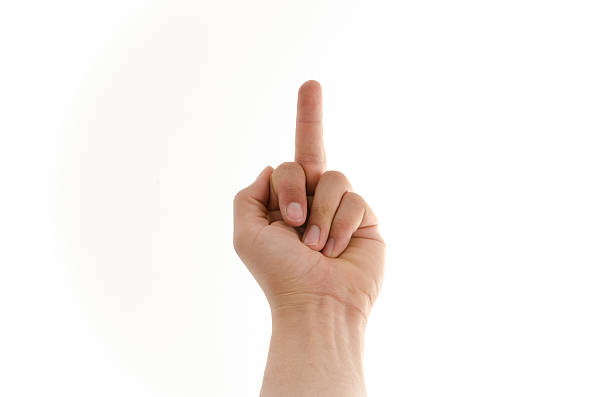insulting_gesture: (230, 76, 390, 397)
